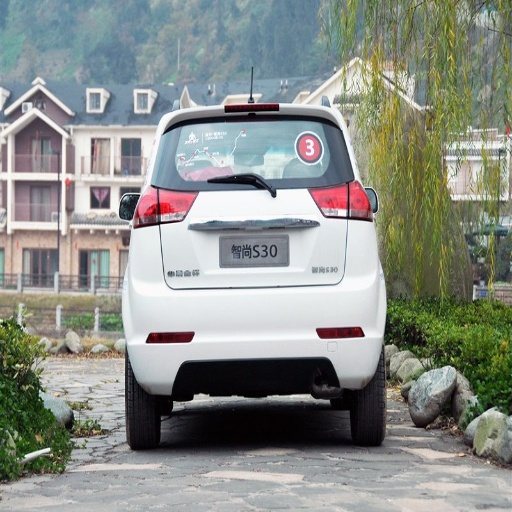back_bumper: (121, 220, 387, 404)
tailgate: (283, 246, 341, 283)
trunk: (144, 183, 350, 290)
